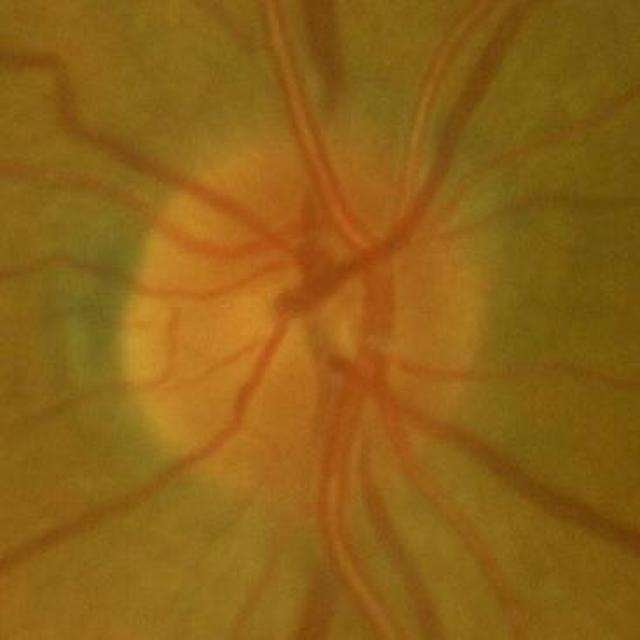OC: (235, 240, 377, 378)
OD: (117, 146, 484, 504)
